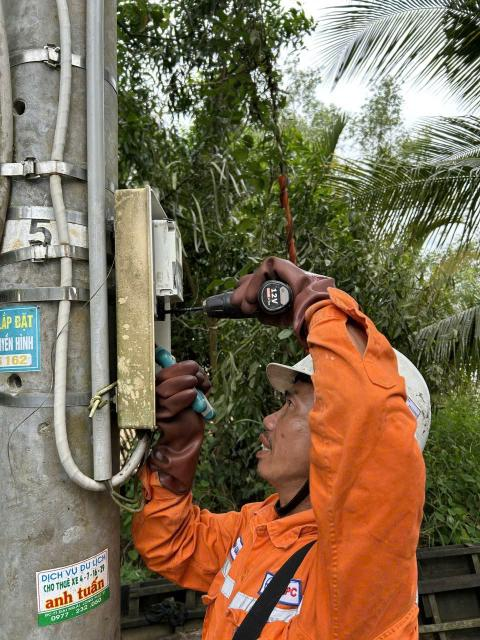gloves: (126, 341, 220, 501), (198, 253, 342, 343)
helmet: (261, 296, 451, 477)
